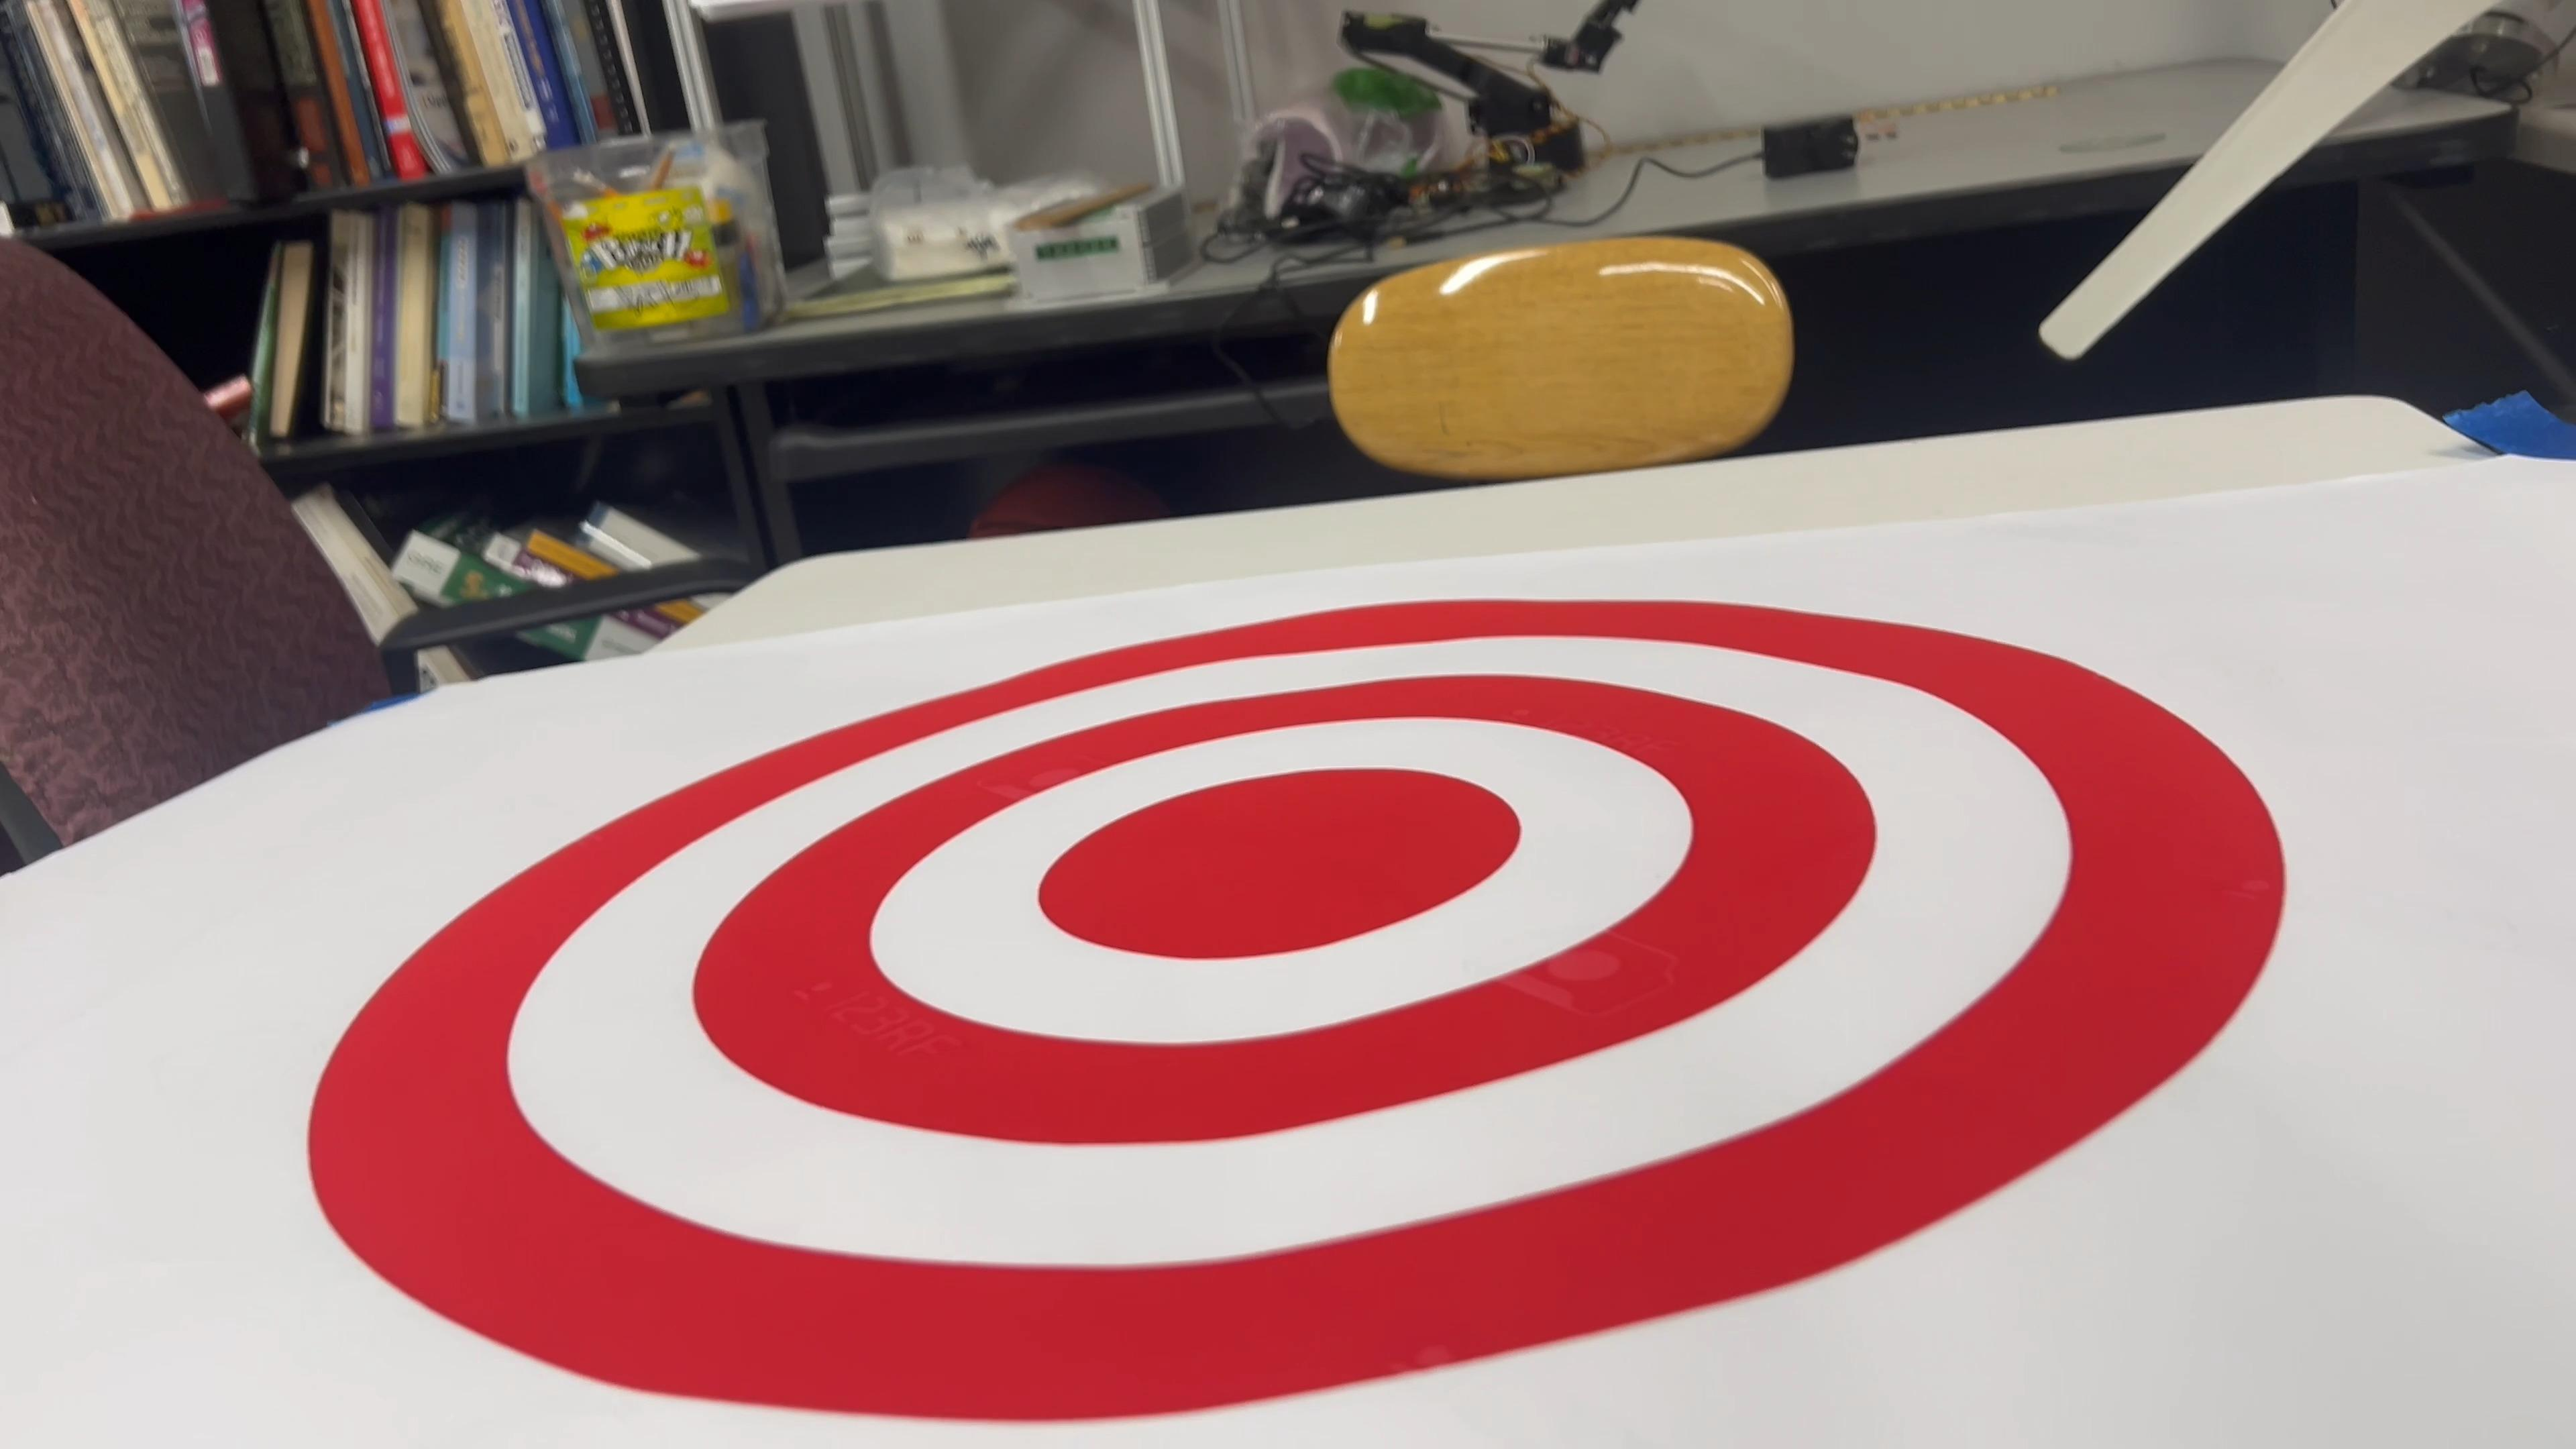target_red: (276, 572, 2308, 1449)
